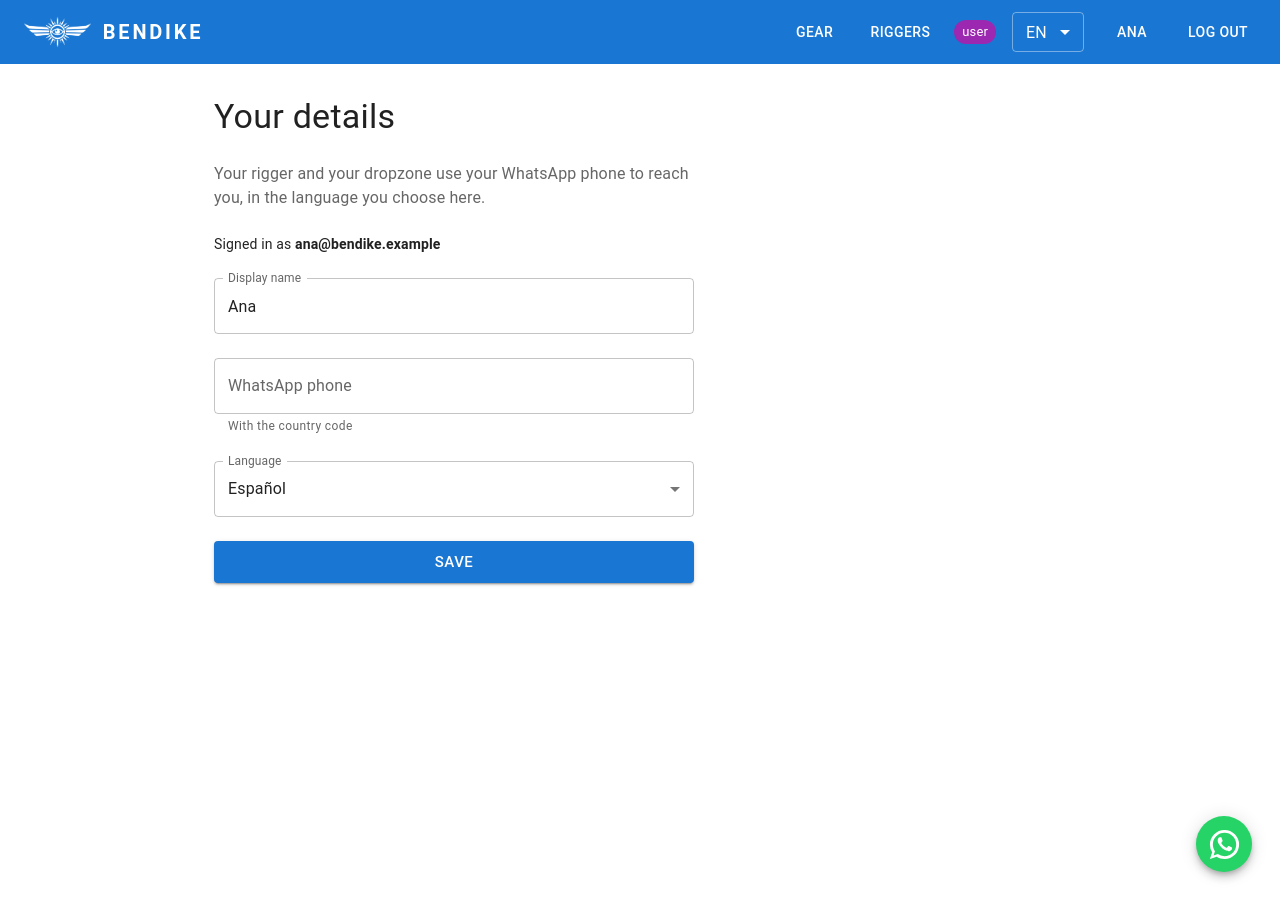
Test case: ProfilePage › shows the error the API returns
Step 1. Click the button "Save" → (454, 562), box [214,541,694,583]
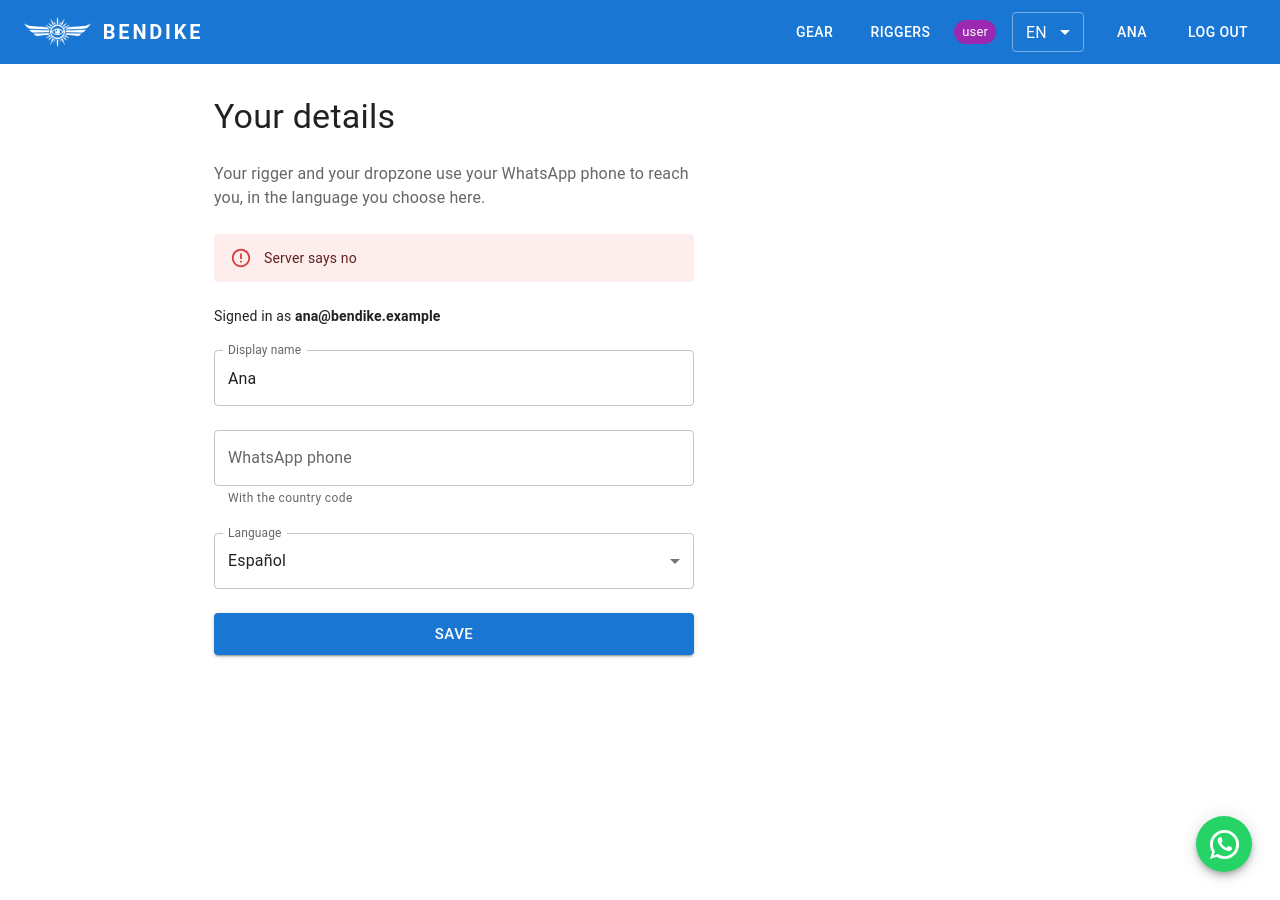
Expected: the text "Server says no" is shown, [264,250,357,266]
